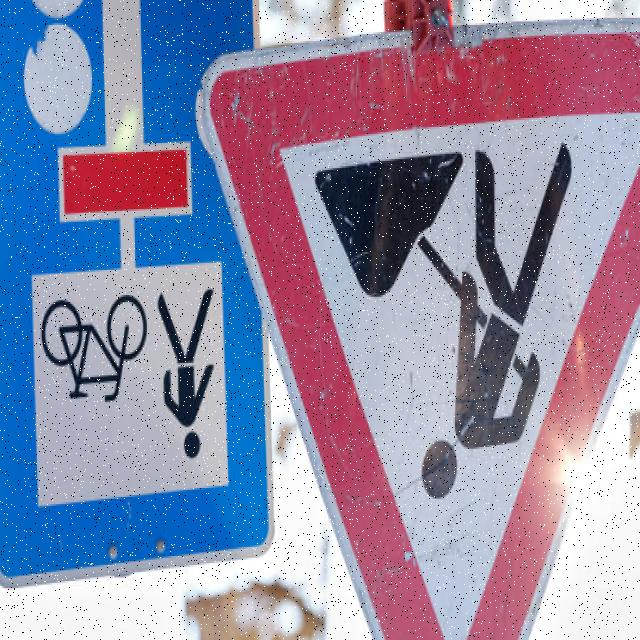road_work: (204, 36, 640, 640)
